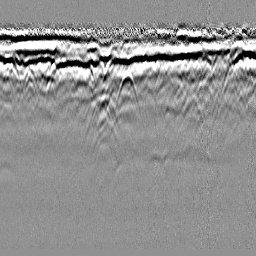cavity: (115, 68, 140, 108)
